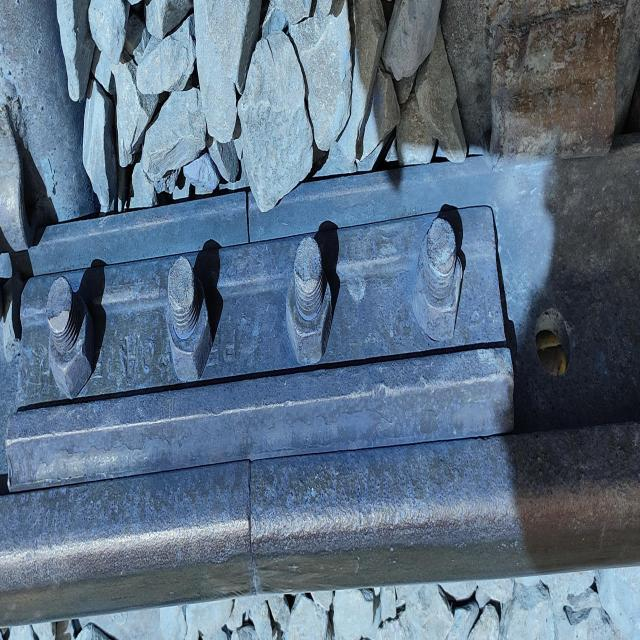Good Joint: (10, 205, 511, 485)
